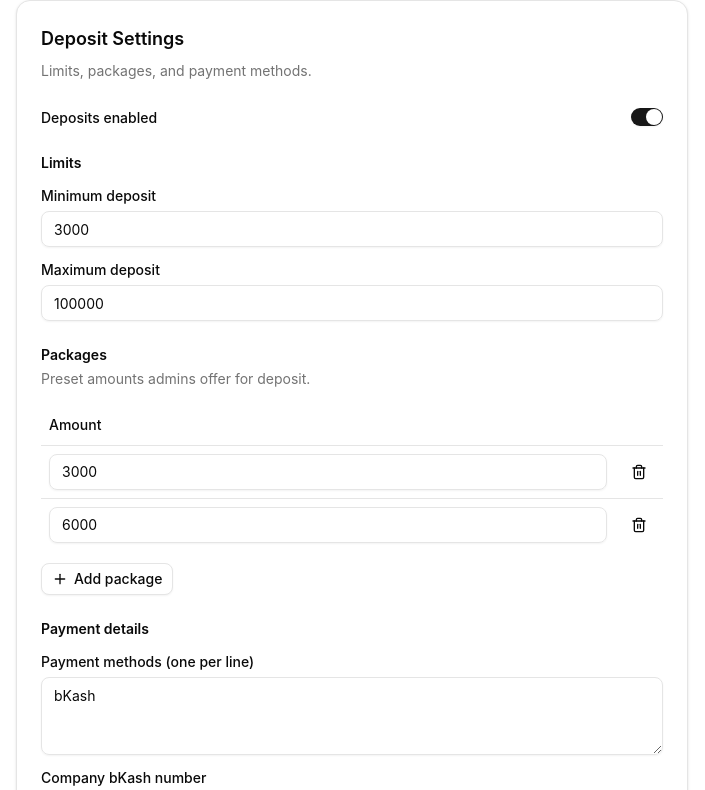
Scenario: DepositSettingsPage › removes a package row
The image size is (705, 790).
Expected: the number field named "Package 2 amount" is shown, [49, 506, 607, 542]
Click the button named "Remove package 1" at point(639, 472), box [623, 456, 655, 488]
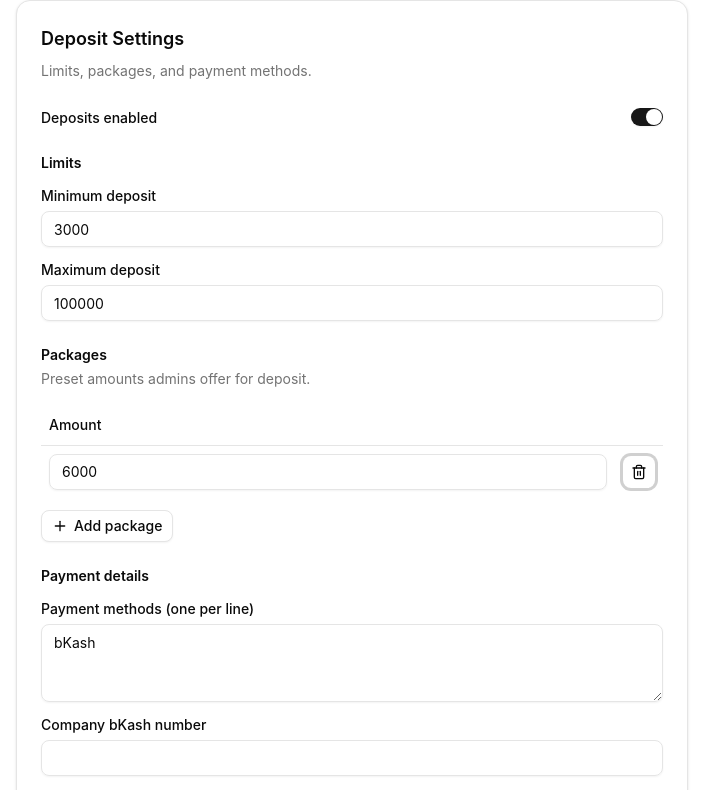
Now the number of number fields named "Package 1 amount" is 1, box [49, 454, 607, 490]
Now the number field named "Package 1 amount" holds "6000", box [49, 454, 607, 490]
